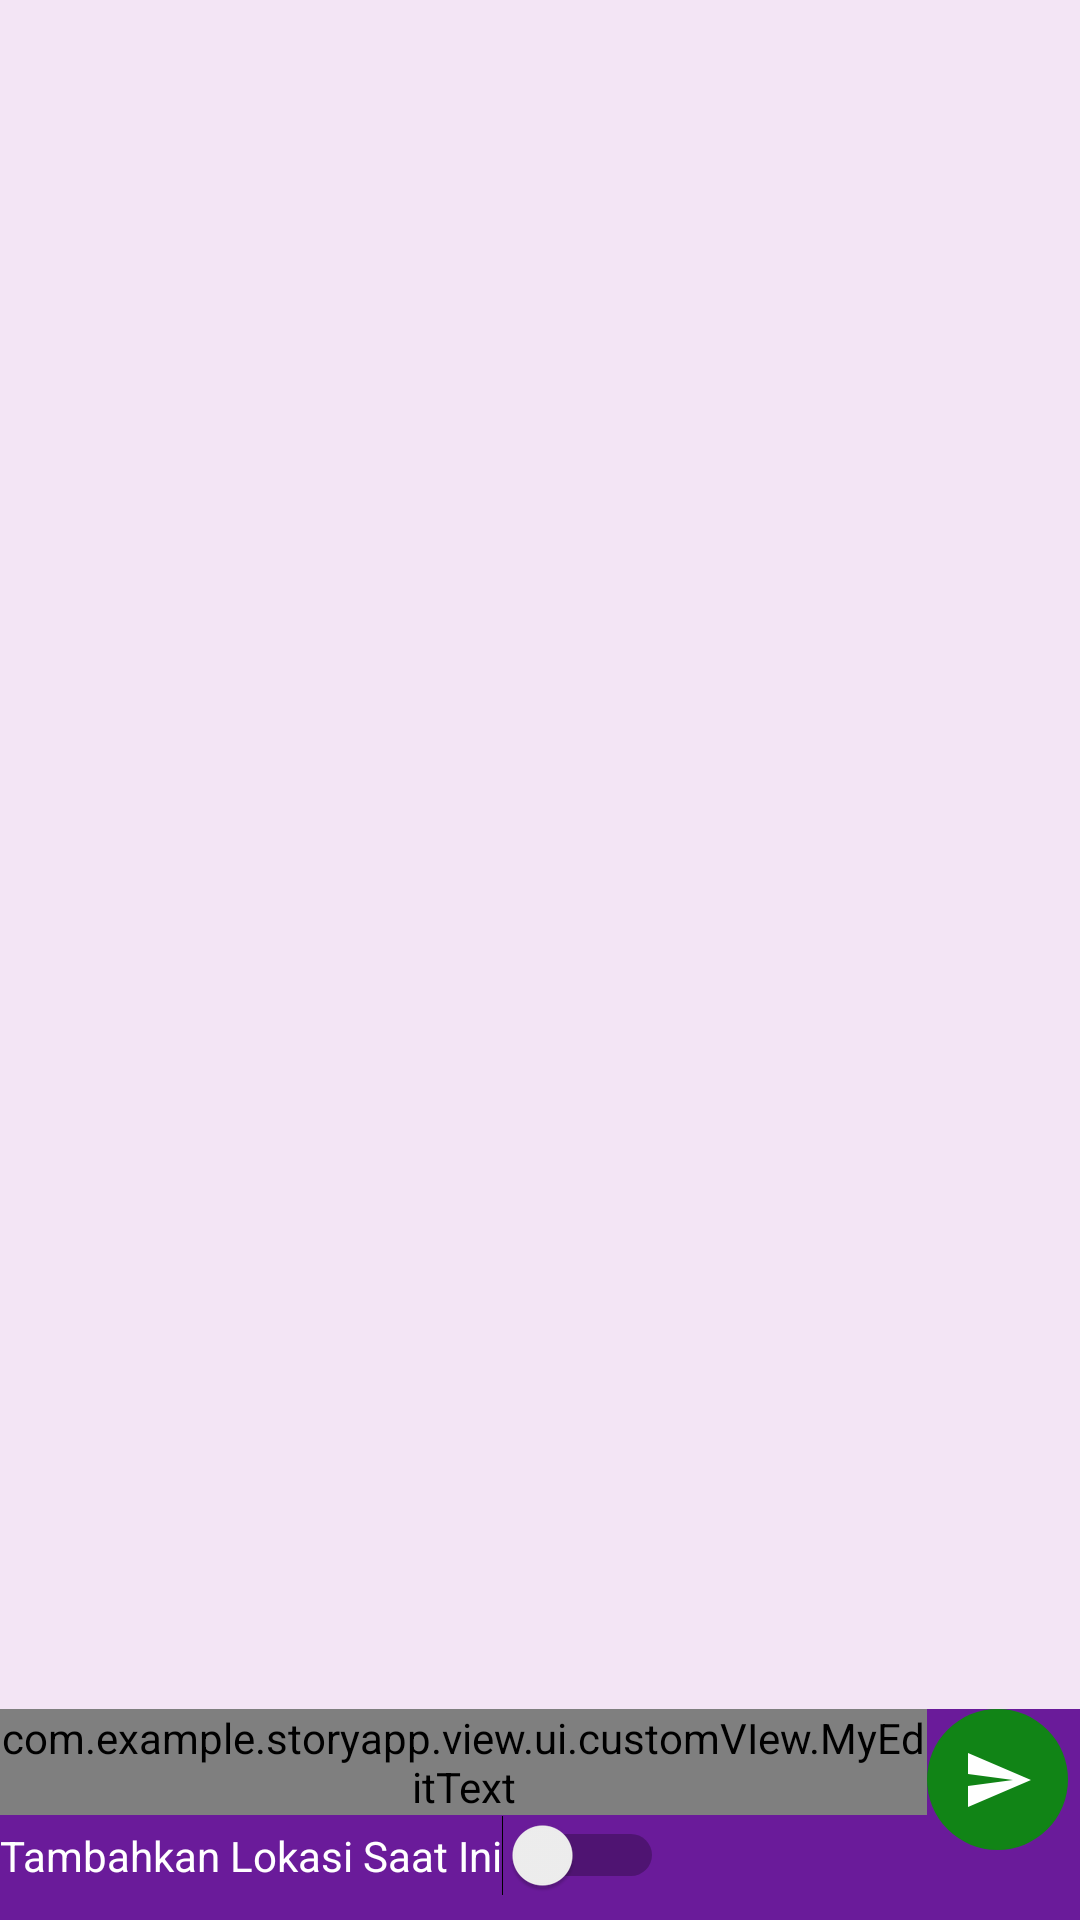

Named icons in this screenshot (1080 × 1920) and their centers, (x,y):
send: (997,1779)
